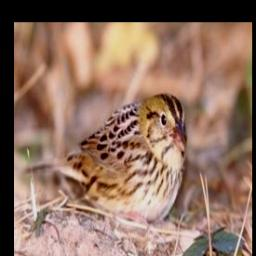Sparrow: (23, 90, 188, 229)
